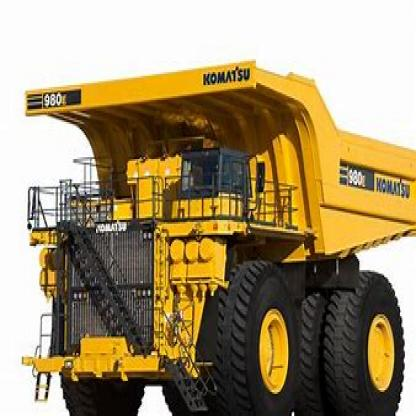dump_truck: (24, 65, 414, 414)
